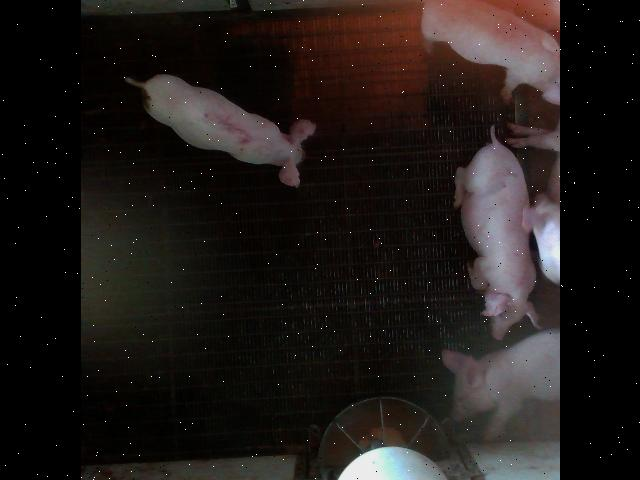pig-4: (423, 0, 558, 104)
pig-5: (124, 74, 314, 188)
